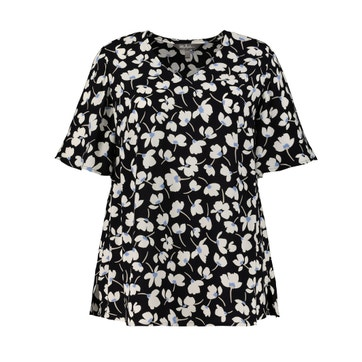C_short blouse: (54, 30, 318, 330)
